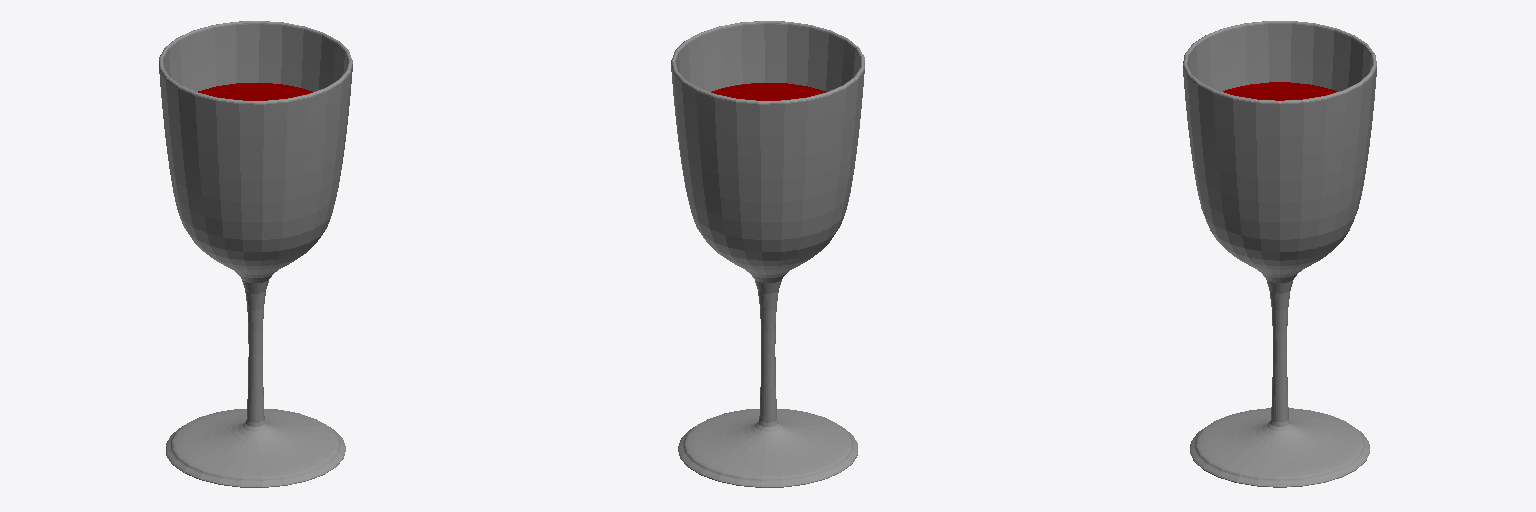
Rendered from glass_wine.obj.
The picture shows the model from 3 angles: view 1: azimuth 30°, elevation 25°; view 2: azimuth 150°, elevation 25°; view 3: azimuth 270°, elevation 25°; orthographic projection.
Parts seen in each view (by area): view 1: Line01, liquid; view 2: Line01, liquid; view 3: Line01, liquid.
Part boxes in pixels (bbox=[...]): Line01: bbox=[159, 21, 352, 487]; liquid: bbox=[198, 83, 312, 100]; Line01: bbox=[671, 21, 864, 487]; liquid: bbox=[711, 83, 825, 100]; Line01: bbox=[1183, 21, 1376, 487]; liquid: bbox=[1223, 82, 1336, 100].
Size of the model in its own units: 1.61 by 3.56 by 1.61.